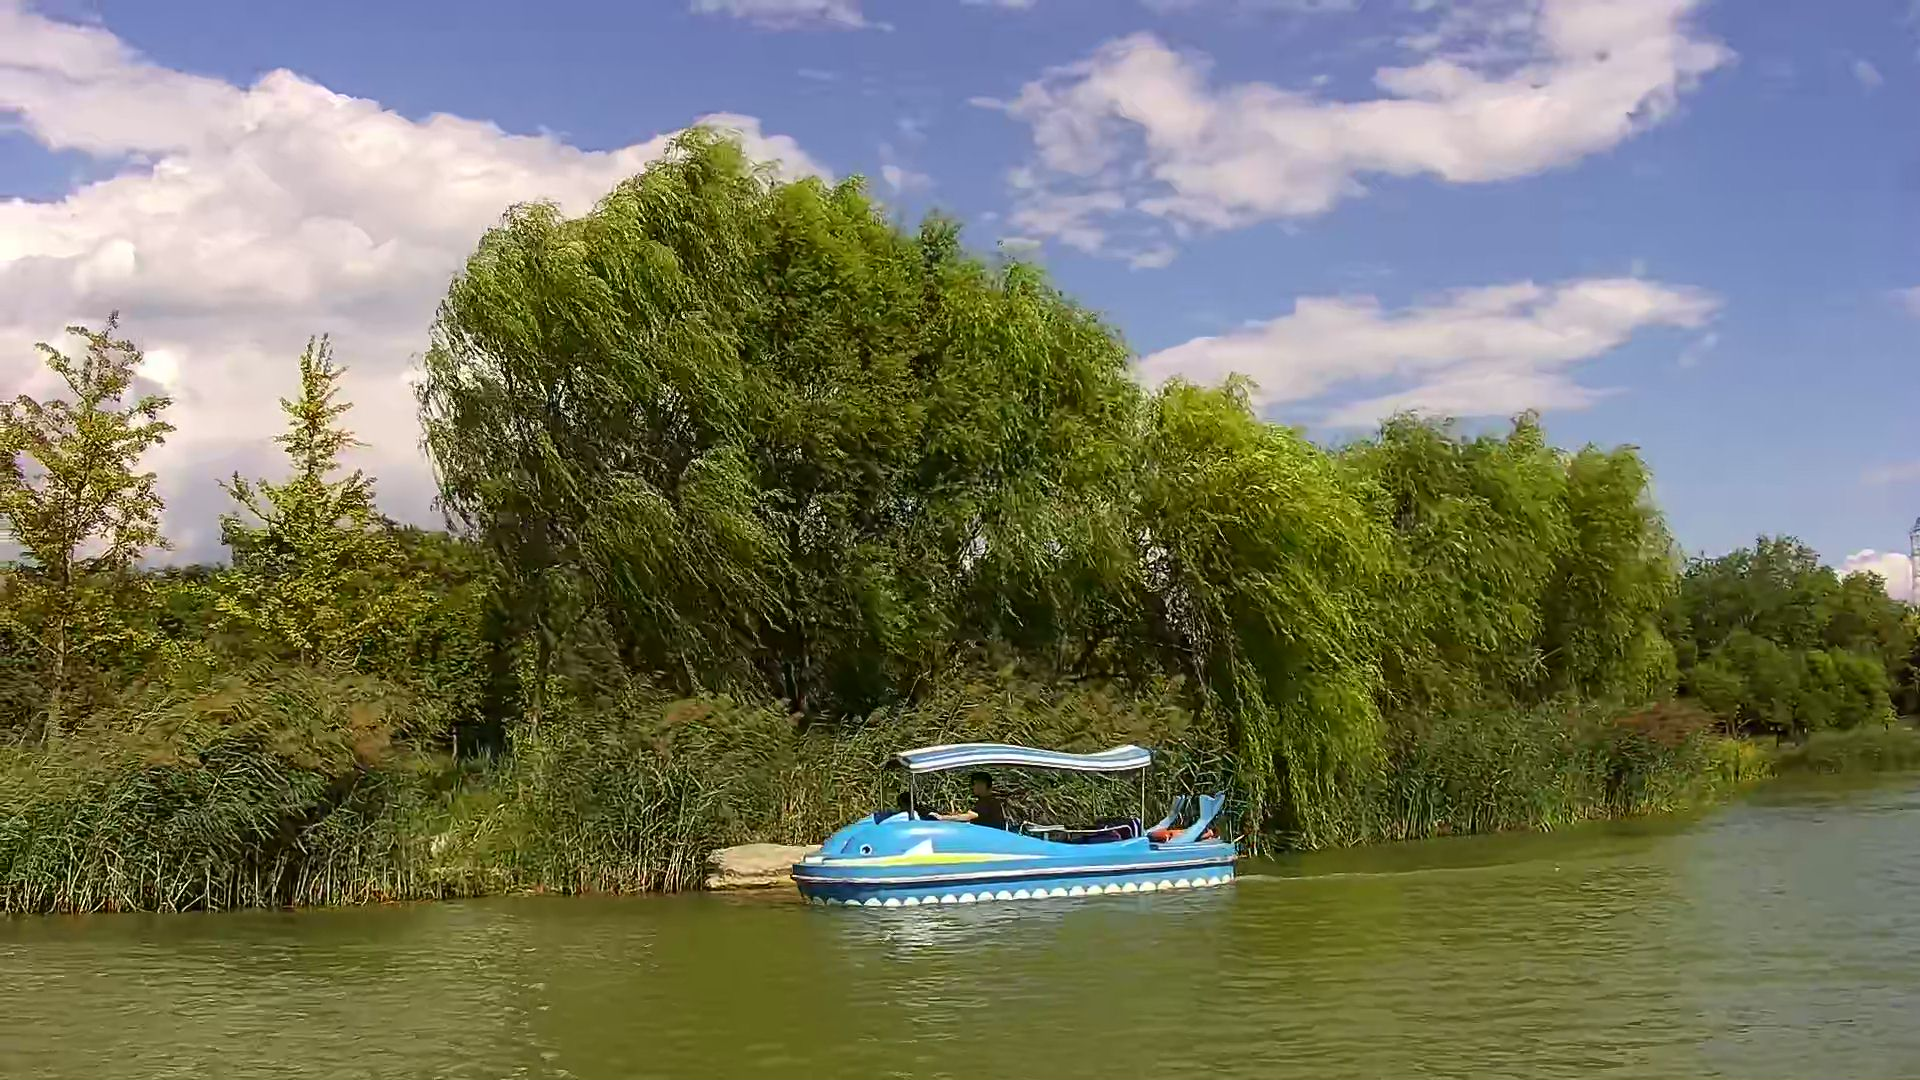boat: (790, 741, 1242, 912)
person: (958, 768, 1007, 831)
rock: (697, 842, 825, 896)
